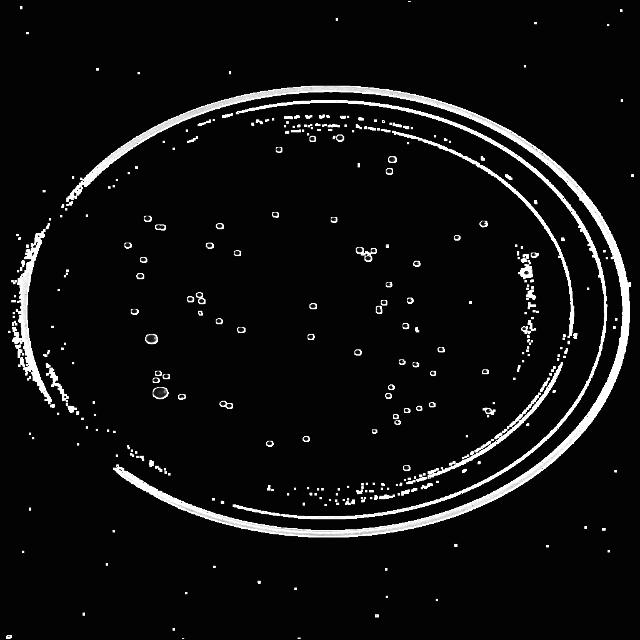colony: (154, 387, 168, 399), (144, 334, 158, 344), (130, 308, 140, 316), (479, 220, 488, 228), (154, 370, 162, 378), (266, 440, 274, 448), (330, 216, 338, 224), (386, 168, 394, 176), (302, 436, 312, 442), (354, 350, 364, 356), (214, 224, 224, 230), (232, 250, 242, 256), (178, 394, 186, 401), (414, 260, 421, 268), (388, 156, 397, 162), (136, 274, 144, 280), (140, 256, 148, 262), (162, 374, 170, 380), (226, 402, 234, 408), (404, 408, 412, 414), (428, 402, 436, 408), (482, 370, 490, 376), (437, 347, 445, 353), (412, 362, 420, 368), (398, 360, 406, 366), (309, 304, 317, 310), (406, 298, 414, 304), (384, 282, 392, 288), (336, 136, 344, 142), (272, 212, 280, 218), (206, 243, 214, 249), (196, 292, 204, 298), (199, 299, 207, 305), (215, 318, 223, 324), (125, 242, 132, 248), (188, 296, 195, 302), (160, 224, 166, 230), (154, 378, 160, 384), (220, 400, 226, 406), (388, 384, 394, 390), (531, 252, 537, 258), (523, 270, 529, 276), (431, 371, 437, 377), (308, 334, 314, 340), (366, 256, 372, 262), (356, 248, 362, 254), (310, 136, 316, 142), (276, 147, 282, 153), (404, 466, 412, 470), (484, 410, 492, 414), (454, 236, 461, 240), (144, 218, 150, 222), (156, 224, 160, 230), (393, 415, 399, 419), (386, 394, 392, 398), (416, 407, 422, 411), (522, 328, 528, 332), (402, 324, 408, 328), (382, 301, 388, 305), (197, 311, 203, 315), (373, 429, 377, 433), (395, 420, 399, 424), (377, 310, 383, 312), (376, 306, 380, 308), (372, 250, 376, 252), (387, 245, 389, 248)
